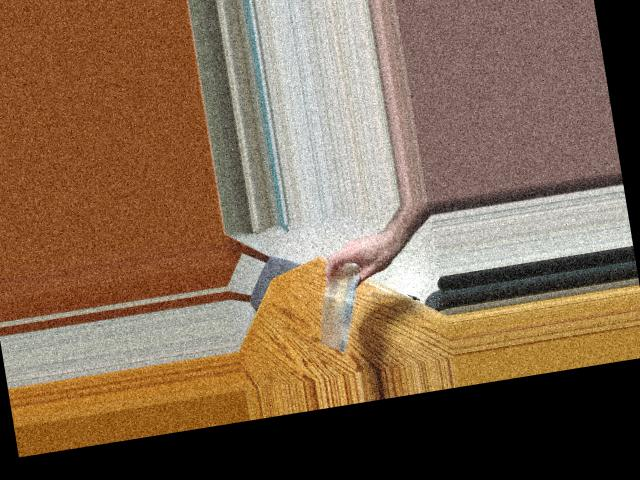cheese: (313, 254, 363, 355)
